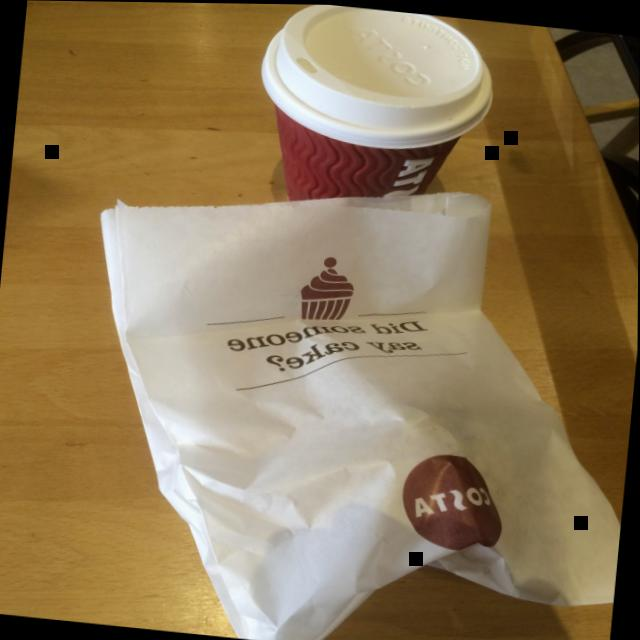Paper bag: (101, 191, 621, 640)
Paper cup: (261, 4, 493, 200)
Plastic lid: (262, 4, 493, 147)
